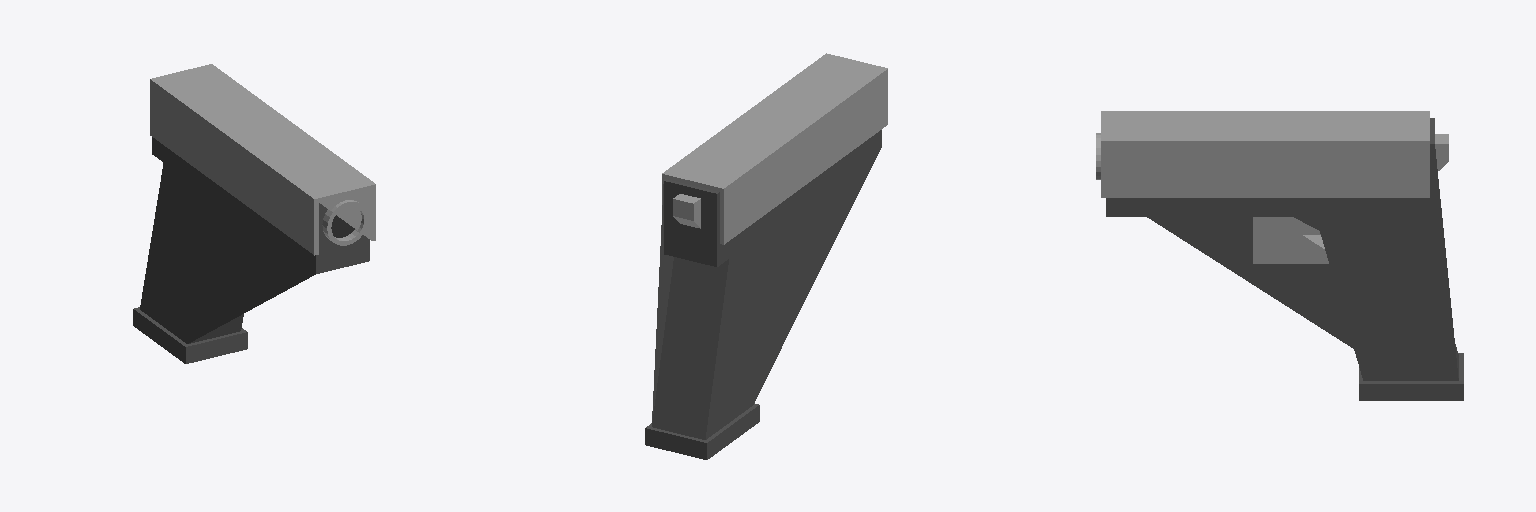
The model's file is pistol.obj.
3 views of the same model, side by side, from view 1: azimuth 30°, elevation 25°; view 2: azimuth 150°, elevation 25°; view 3: azimuth 270°, elevation 25° (orthographic).
Visible parts, largest first — view 1: pistol; view 2: pistol; view 3: pistol.
Part boxes in pixels (x1,y1,x2,y2): pistol: (133,64,375,363); pistol: (645,53,887,459); pistol: (1096,111,1463,400).
Bounding box in the file's own units: 0.009 × 0.036 × 0.0462.